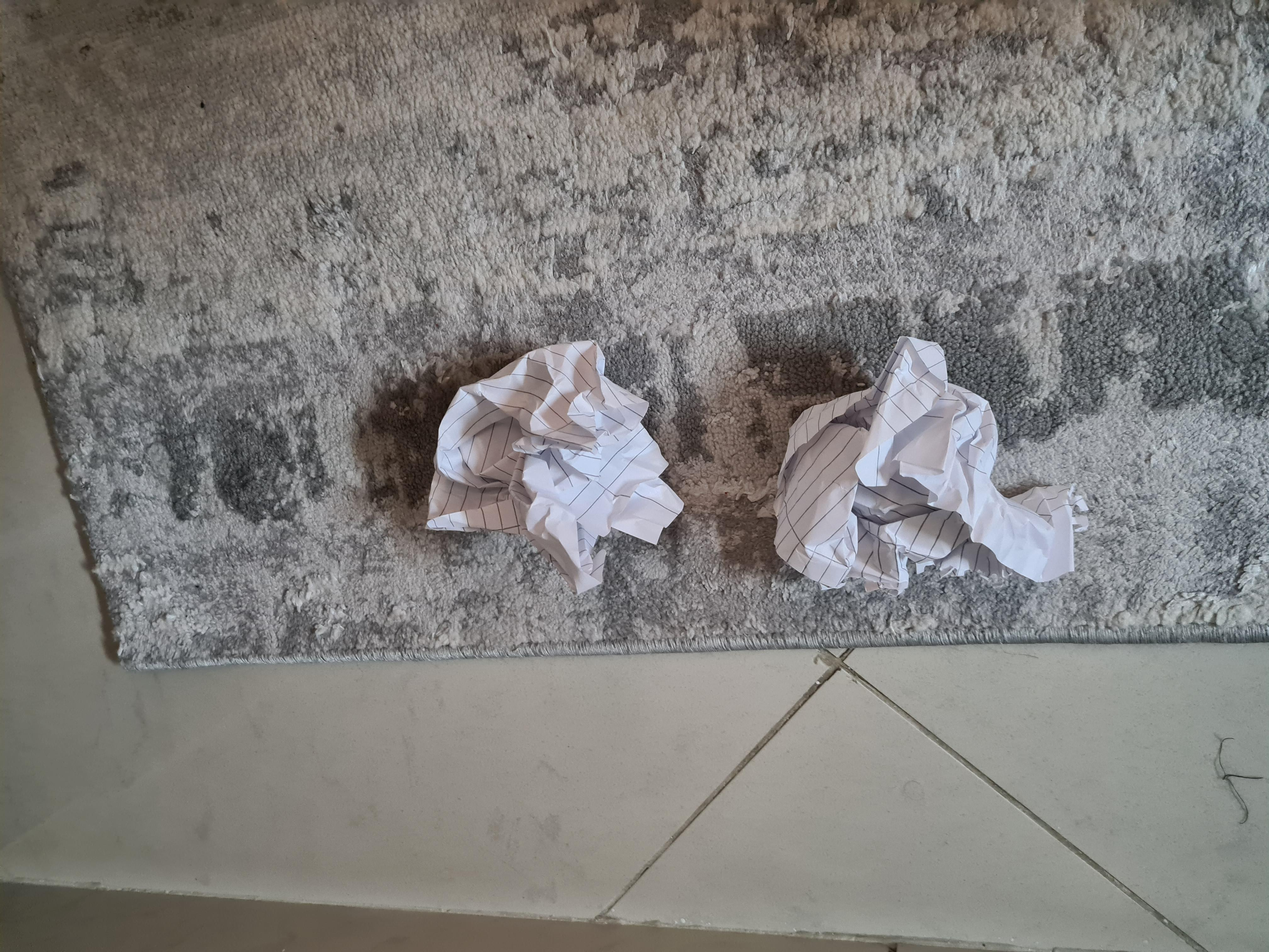paper: (471, 584, 786, 820), (509, 331, 803, 513)
